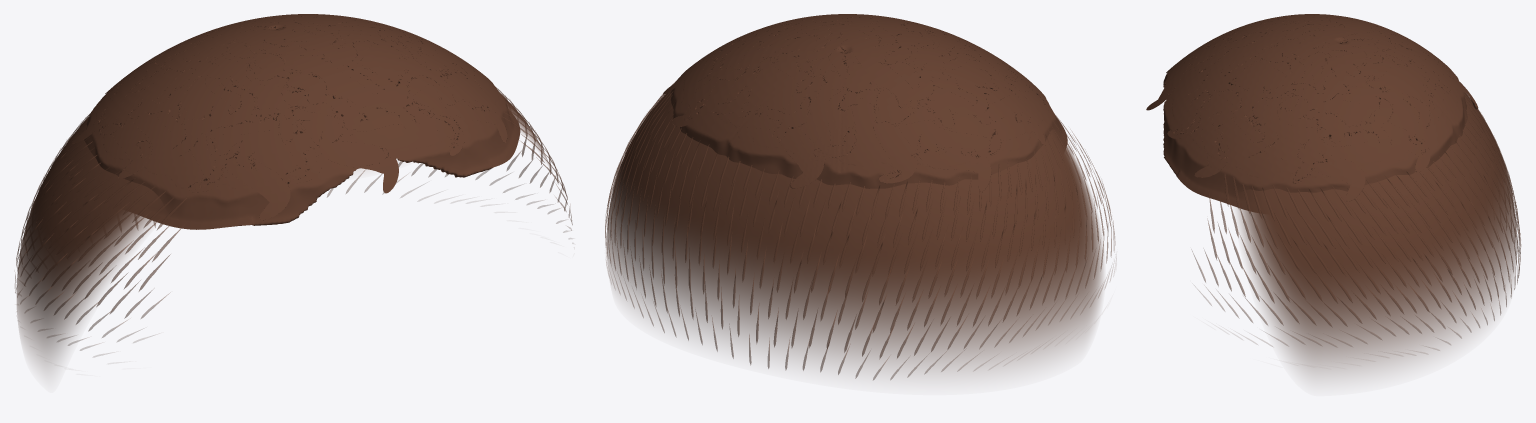
File: Masculine-curly-top-cap259-hair.glb
The picture shows the model from 3 angles, left to right: view 1: azimuth 30°, elevation 25°; view 2: azimuth 150°, elevation 25°; view 3: azimuth 270°, elevation 25°; orthographic projection. The views are drawn at different scales.
Parts seen in each view (by area): view 1: 226 hair / Hair252 / sculpted curl groups, 226 hair / Hair258 / smooth side fade, 226 hair / Hair259 / directional fade marks214; view 2: 226 hair / Hair258 / smooth side fade, 226 hair / Hair252 / sculpted curl groups, 226 hair / Hair259 / directional fade marks214; view 3: 226 hair / Hair258 / smooth side fade, 226 hair / Hair252 / sculpted curl groups, 226 hair / Hair259 / directional fade marks214.
Boxes of the visible parts, x1=… form: 226 hair / Hair252 / sculpted curl groups: x1=72, y1=14, x2=520, y2=229; 226 hair / Hair258 / smooth side fade: x1=16, y1=93, x2=551, y2=369; 226 hair / Hair259 / directional fade marks214: x1=15, y1=87, x2=573, y2=356; 226 hair / Hair258 / smooth side fade: x1=607, y1=91, x2=1103, y2=374; 226 hair / Hair252 / sculpted curl groups: x1=663, y1=14, x2=1067, y2=191; 226 hair / Hair259 / directional fade marks214: x1=605, y1=81, x2=1116, y2=379; 226 hair / Hair258 / smooth side fade: x1=1235, y1=92, x2=1516, y2=377; 226 hair / Hair252 / sculpted curl groups: x1=1146, y1=14, x2=1478, y2=212; 226 hair / Hair259 / directional fade marks214: x1=1192, y1=93, x2=1521, y2=353.
Bounding box in the file's own units: 0.9743 × 0.584 × 0.7357.
